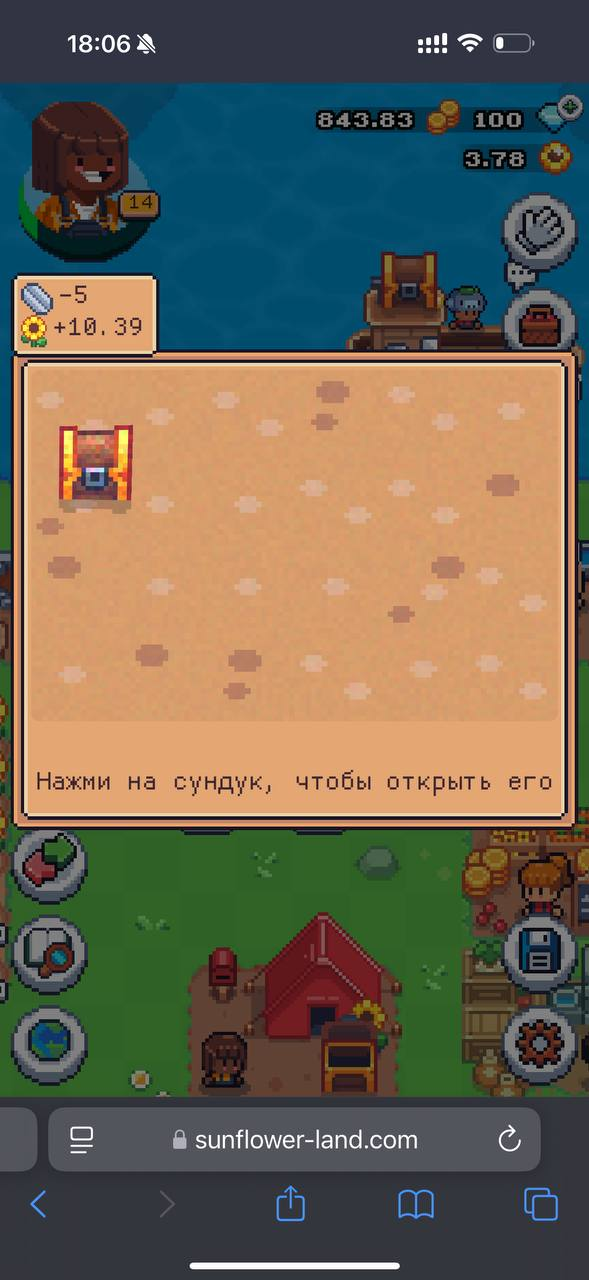capcha_chest: (56, 423, 135, 504)
